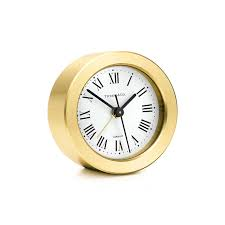alarm_clock: (46, 46, 175, 175), (56, 46, 175, 175)
